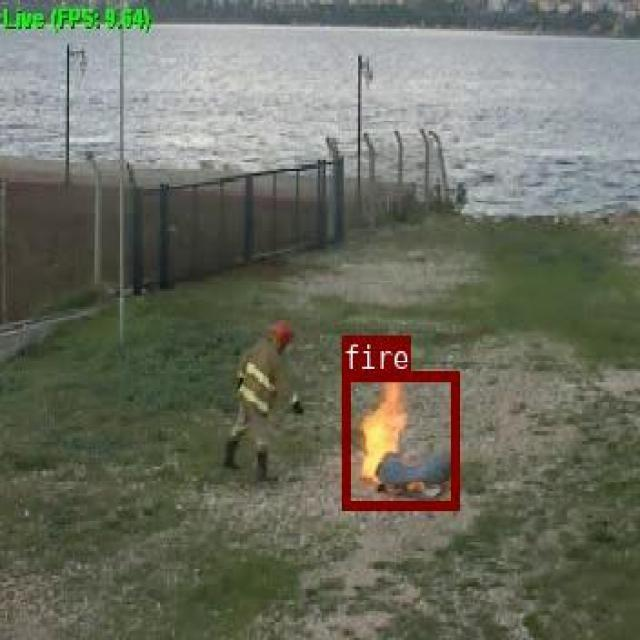fire: (341, 369, 458, 508)
